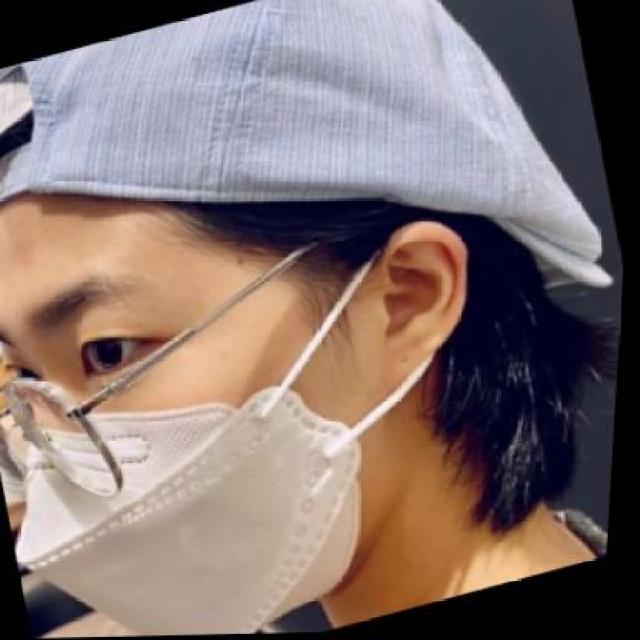hat: (0, 0, 614, 294)
